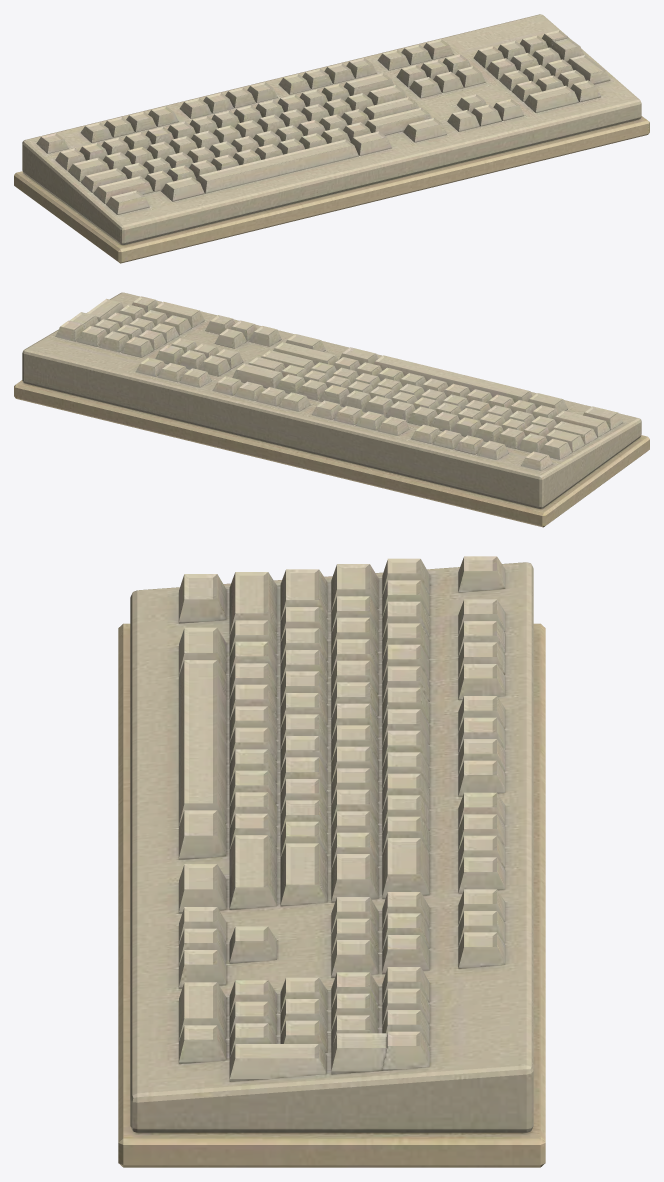
File: keyboard-a.glb
The picture shows the model from 3 angles, top to bottom: view 1: azimuth 30°, elevation 25°; view 2: azimuth 150°, elevation 25°; view 3: azimuth 270°, elevation 25°; orthographic projection. The views are drawn at different scales.
Visible parts, largest first — view 1: case-baked; view 2: case-baked; view 3: case-baked.
Part boxes in pixels (x1,y1,x2,y2): case-baked: (14, 14, 649, 263); case-baked: (14, 292, 649, 527); case-baked: (118, 556, 545, 1167).
Size of the model in its own units: 0.46 by 0.0455 by 0.16.
Materials: 1 (1 with a texture image).
